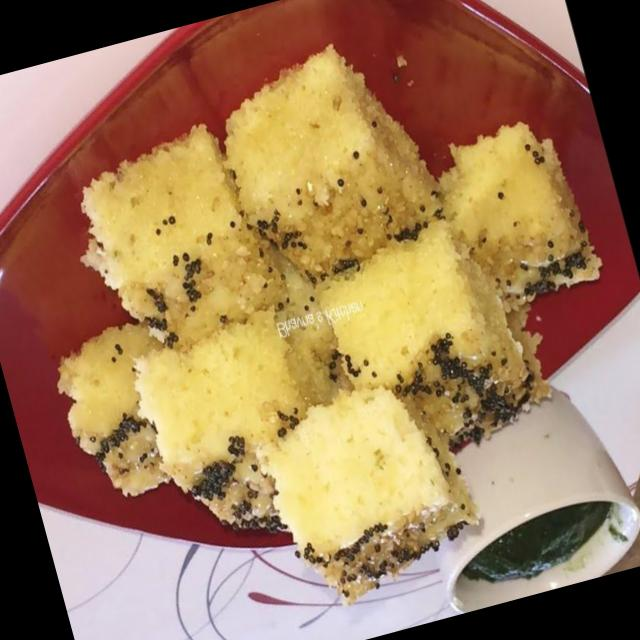dhokla: (10, 32, 640, 640)
